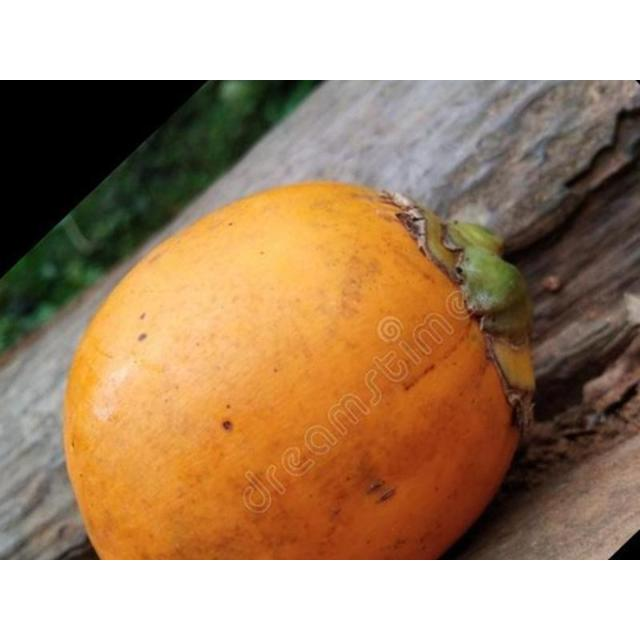good: (58, 181, 535, 559)
